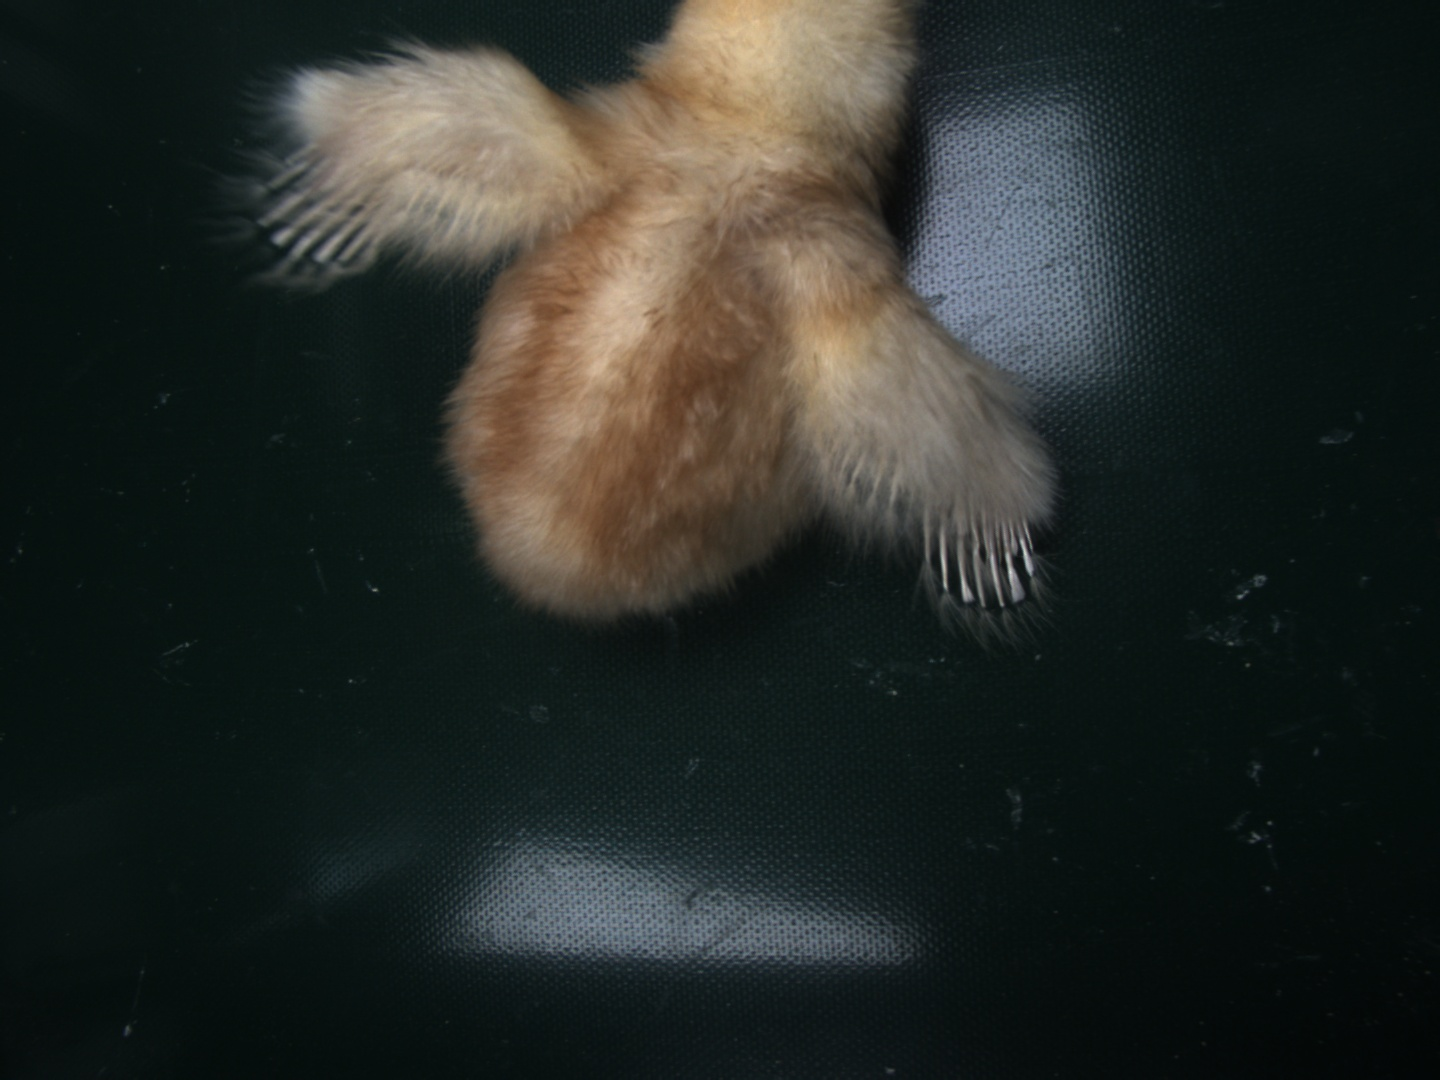female: (921, 503, 1037, 607)
